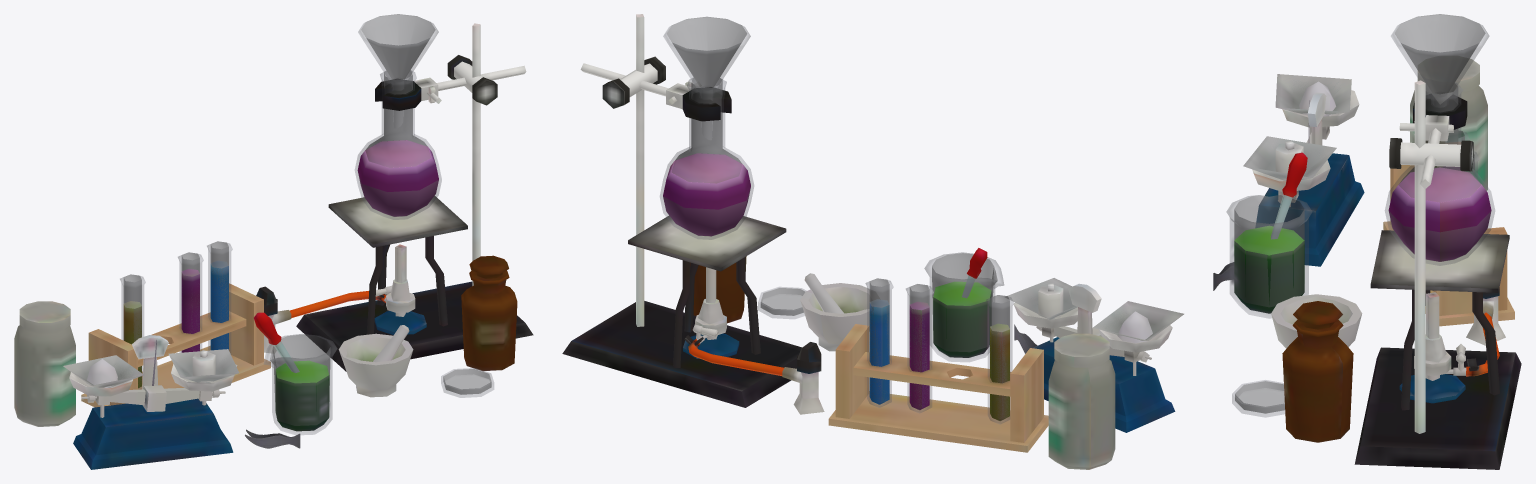
3 renders of one model, left to right at view 1: azimuth 30°, elevation 25°; view 2: azimuth 150°, elevation 25°; view 3: azimuth 270°, elevation 25°, orthographic. The views are drawn at different scales.
Bounding box in the file's own units: 16.36 × 9.56 × 7.19.
Materials: 4 (4 with a texture image).
